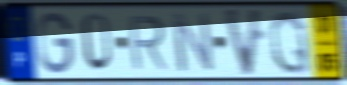0: (79, 11, 113, 74)
G: (35, 10, 76, 76)
N: (169, 11, 217, 75)
Q: (268, 8, 313, 77)
R: (126, 13, 170, 72)
V: (220, 6, 266, 79)
